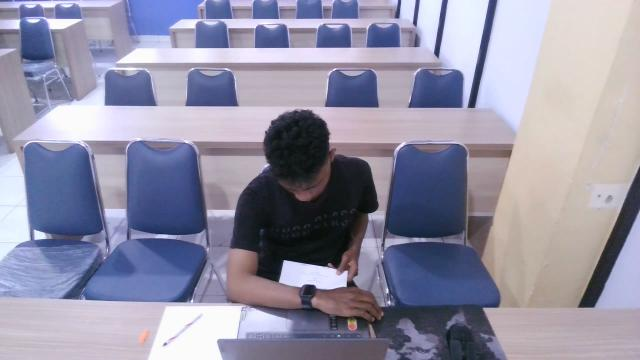Cheat_Sheet: (277, 257, 354, 297)
Head_Down_Extreme: (223, 102, 389, 335)
